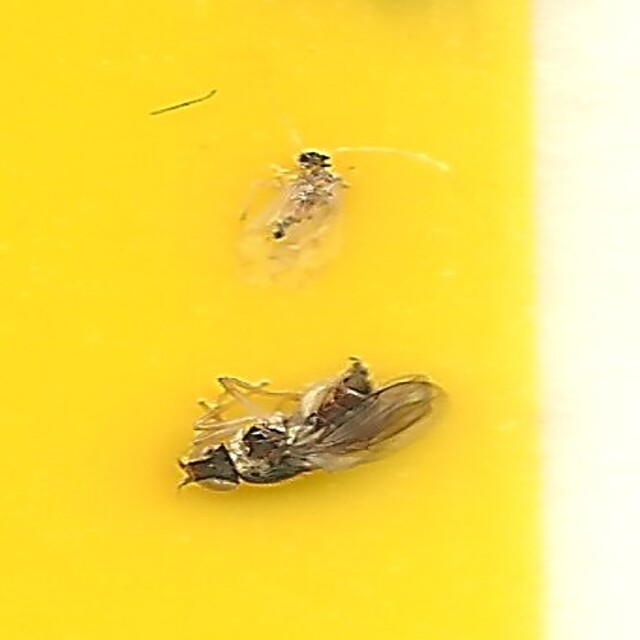Brachycera: (188, 366, 452, 506)
Trichoptera: (225, 134, 358, 293)
